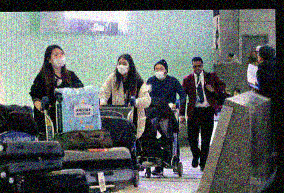with_mask: (49, 48, 66, 67), (115, 59, 129, 73), (153, 64, 165, 79)
without_mask: (191, 61, 202, 73), (250, 51, 257, 58)
